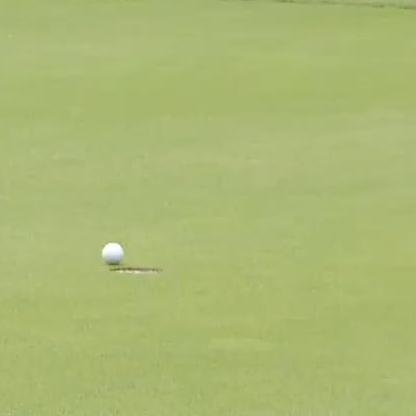golfball: (98, 238, 123, 266)
